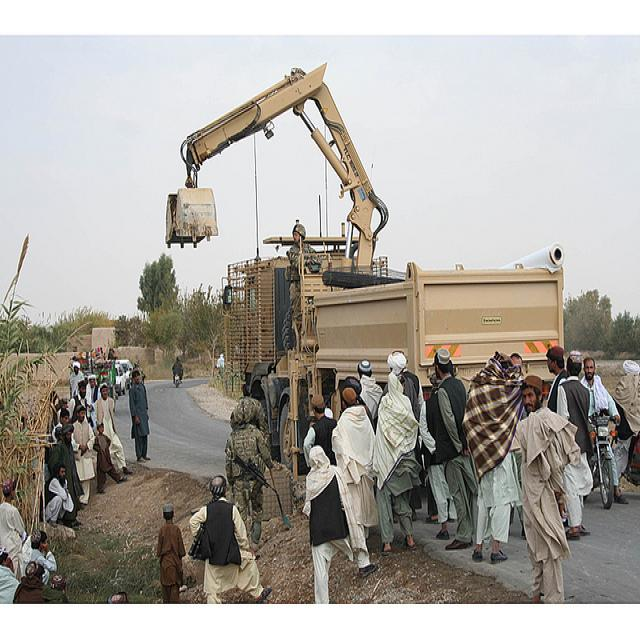motor: (588, 408, 617, 511), (173, 369, 185, 388)
